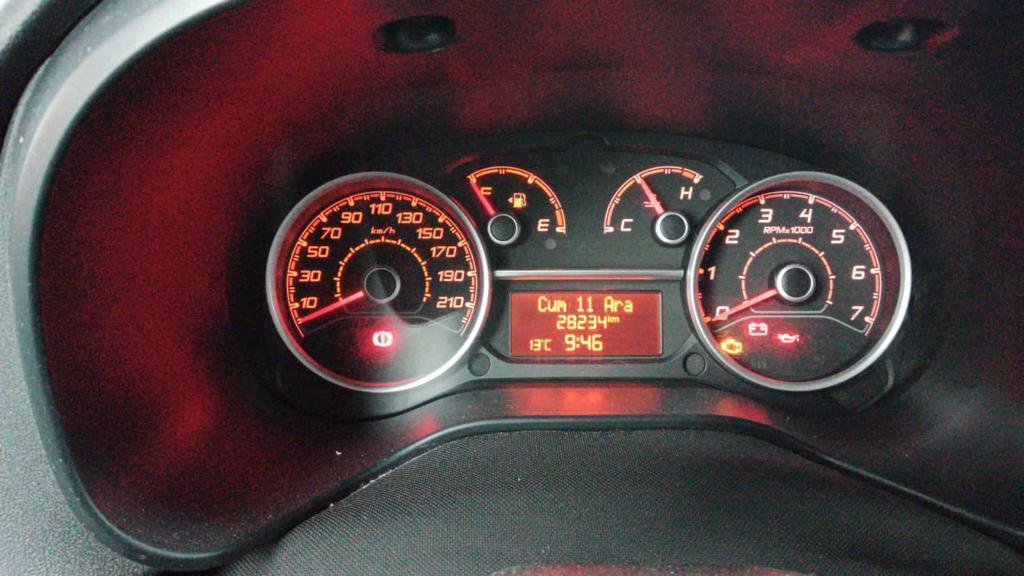1: (585, 294, 594, 313), (576, 295, 584, 312), (529, 339, 532, 351)
2: (577, 314, 587, 329), (556, 314, 566, 329)
3: (588, 314, 596, 329), (532, 338, 540, 351)
4: (580, 334, 591, 350), (597, 314, 607, 328)
6: (592, 333, 603, 351)
8: (566, 314, 576, 329)
9: (564, 332, 575, 350)
X: (537, 294, 547, 313), (604, 295, 613, 311), (557, 298, 567, 312), (613, 299, 623, 312), (623, 299, 633, 312), (547, 299, 557, 312), (544, 337, 552, 351), (612, 316, 620, 323), (576, 336, 579, 349), (607, 314, 611, 323)
odometer: (508, 289, 663, 359)
